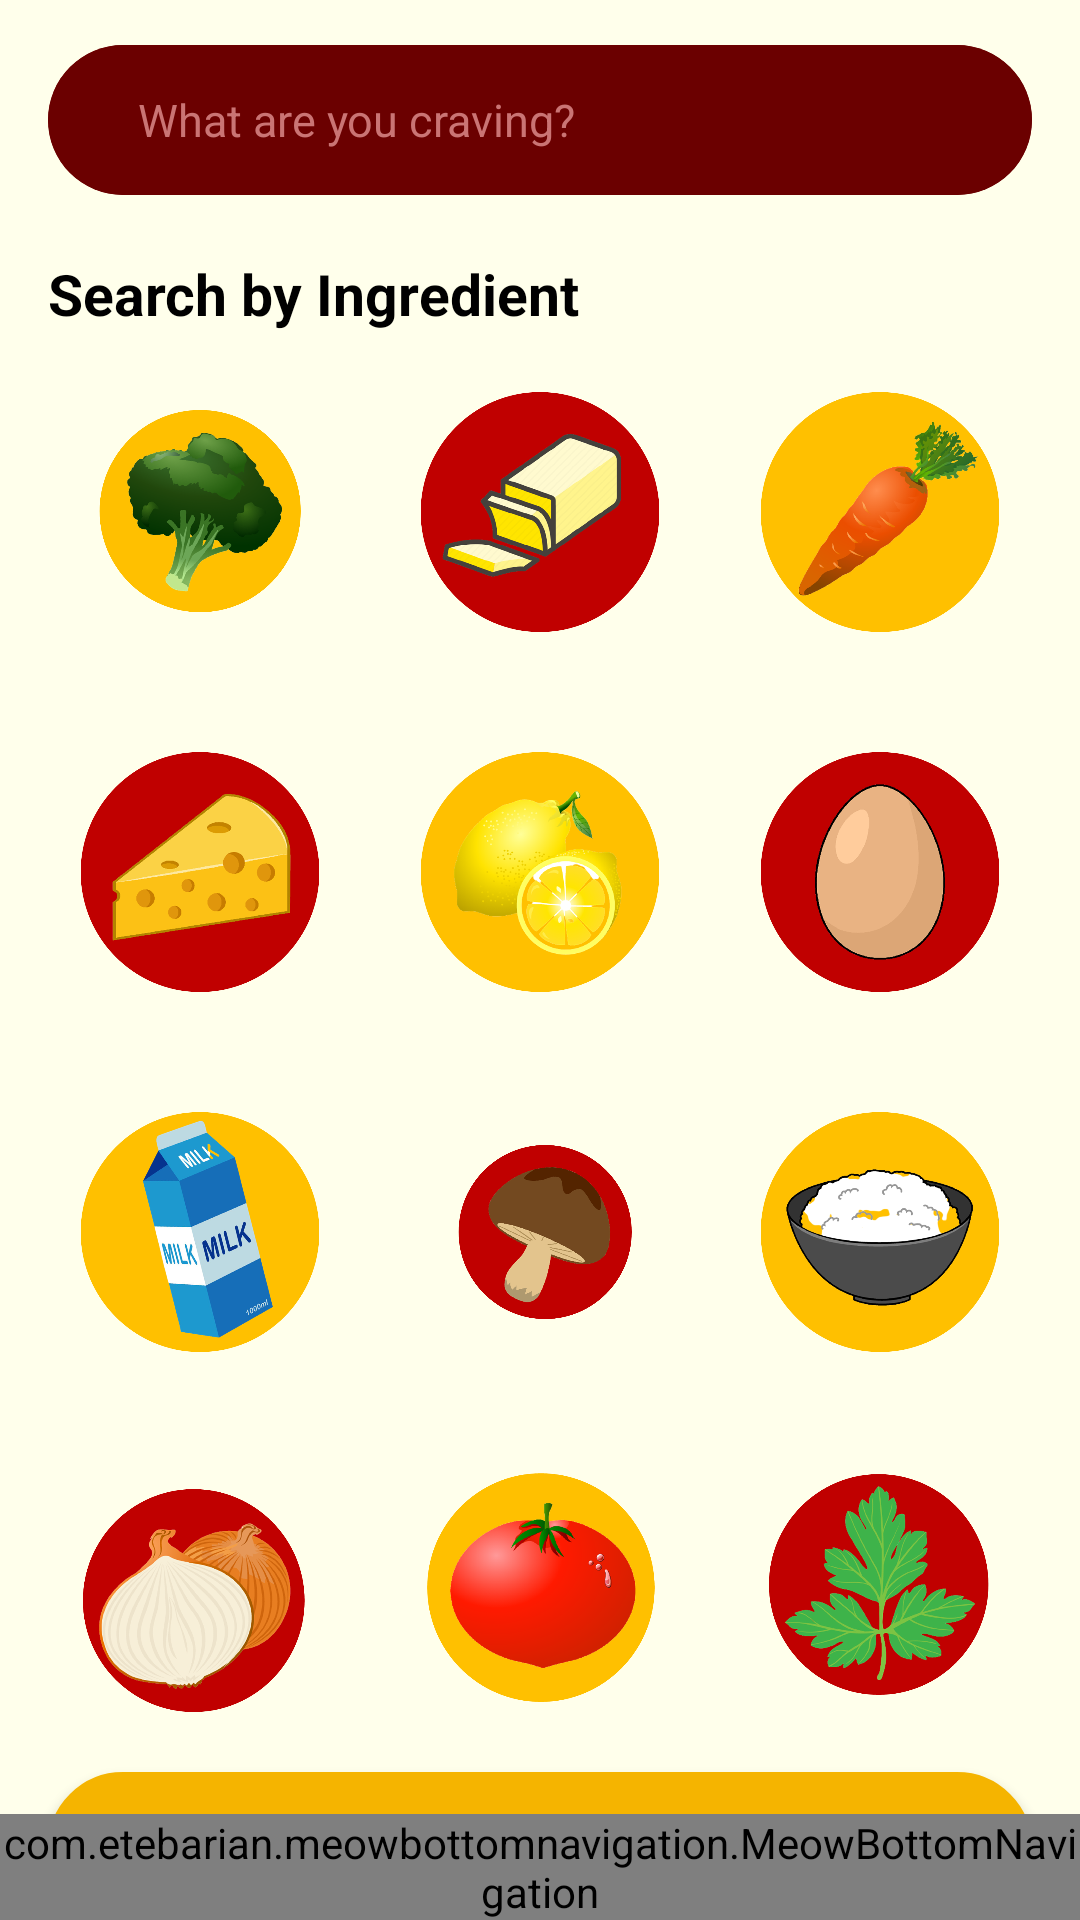

Icons on this 1080 × 1920 Android screen, each with its box as (x1, y1, x2, y2):
brocolli: (99, 410, 301, 612)
butter: (421, 392, 659, 632)
carrot: (761, 392, 999, 632)
cheese: (81, 752, 319, 992)
egg: (761, 752, 999, 992)
lemon: (421, 752, 659, 992)
milk: (81, 1112, 319, 1352)
mushroom: (458, 1145, 632, 1319)
onion: (83, 1489, 305, 1712)
parsley: (769, 1474, 989, 1695)
rice: (761, 1112, 999, 1352)
tomato: (427, 1473, 655, 1702)
